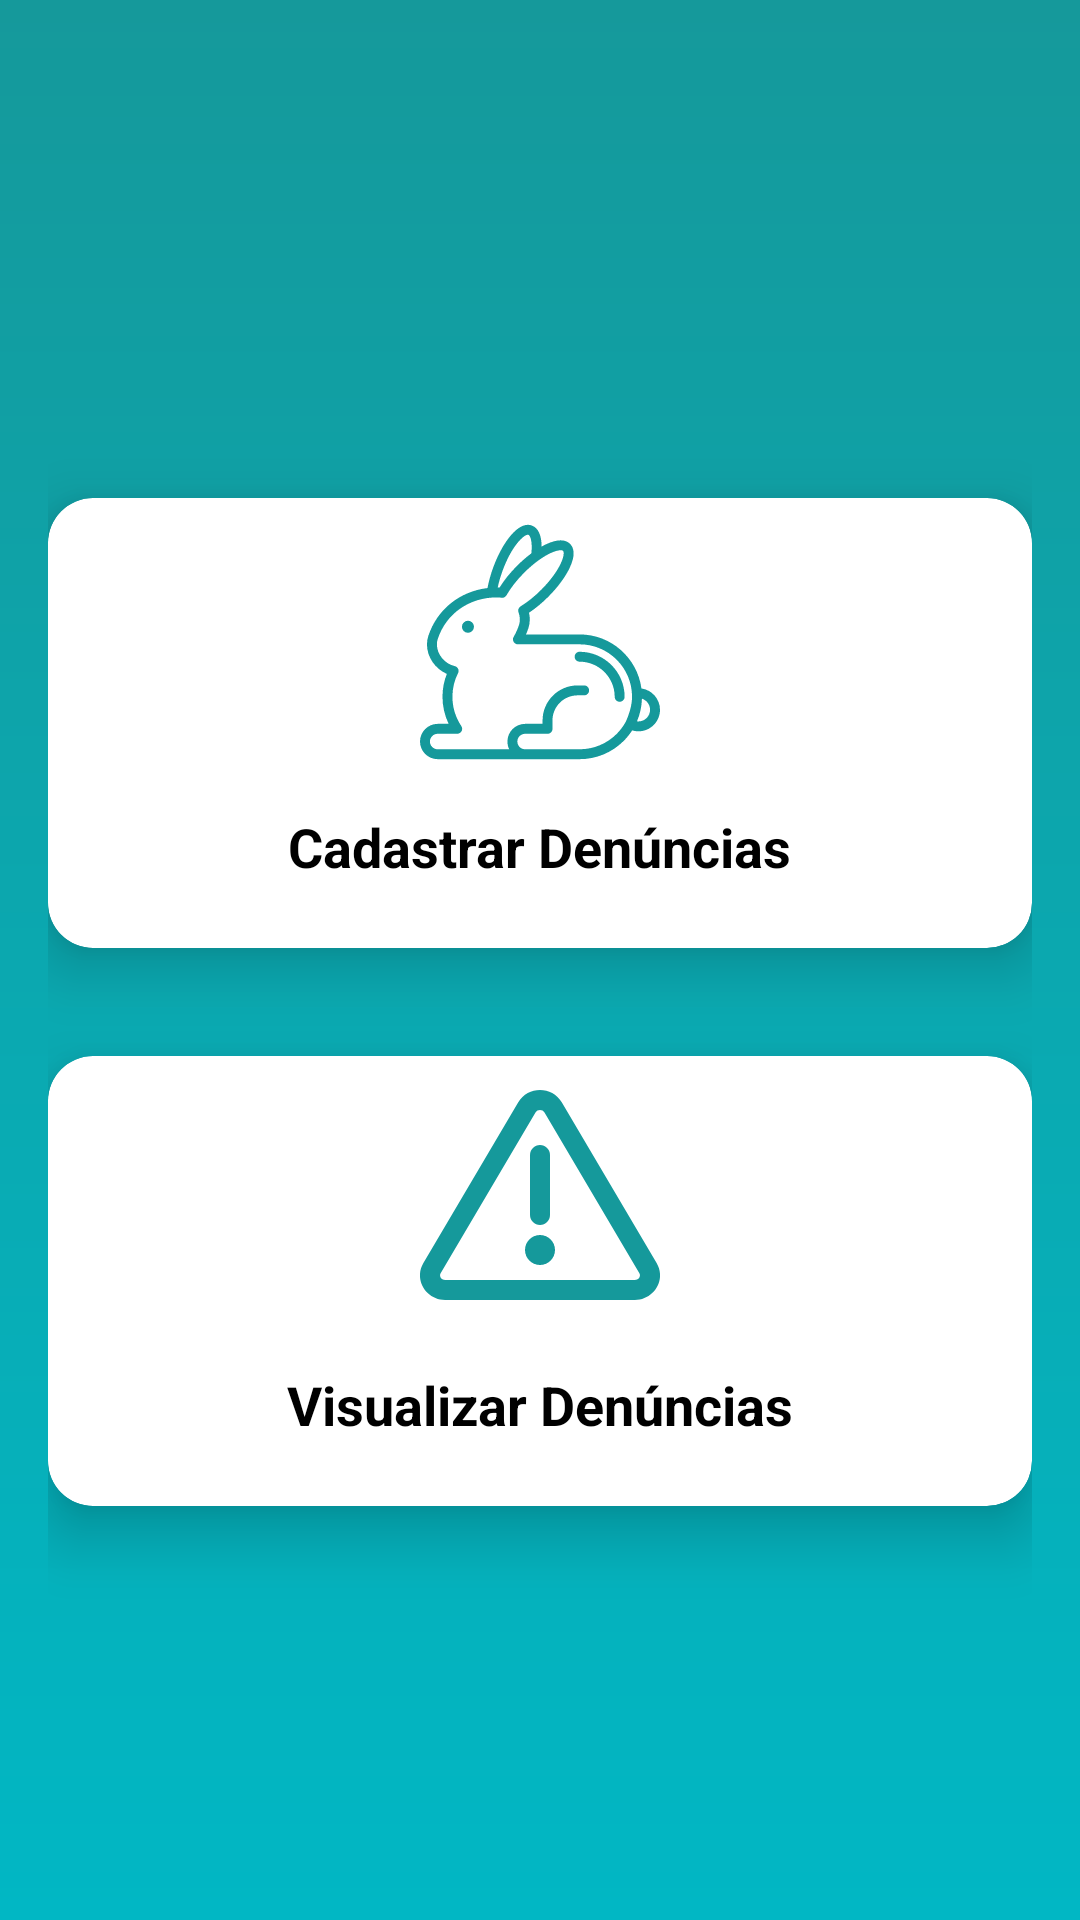

Where to tap for icons on this 1080 x 1920 app screen, as [x,y]:
adotar animal: [540,642]
